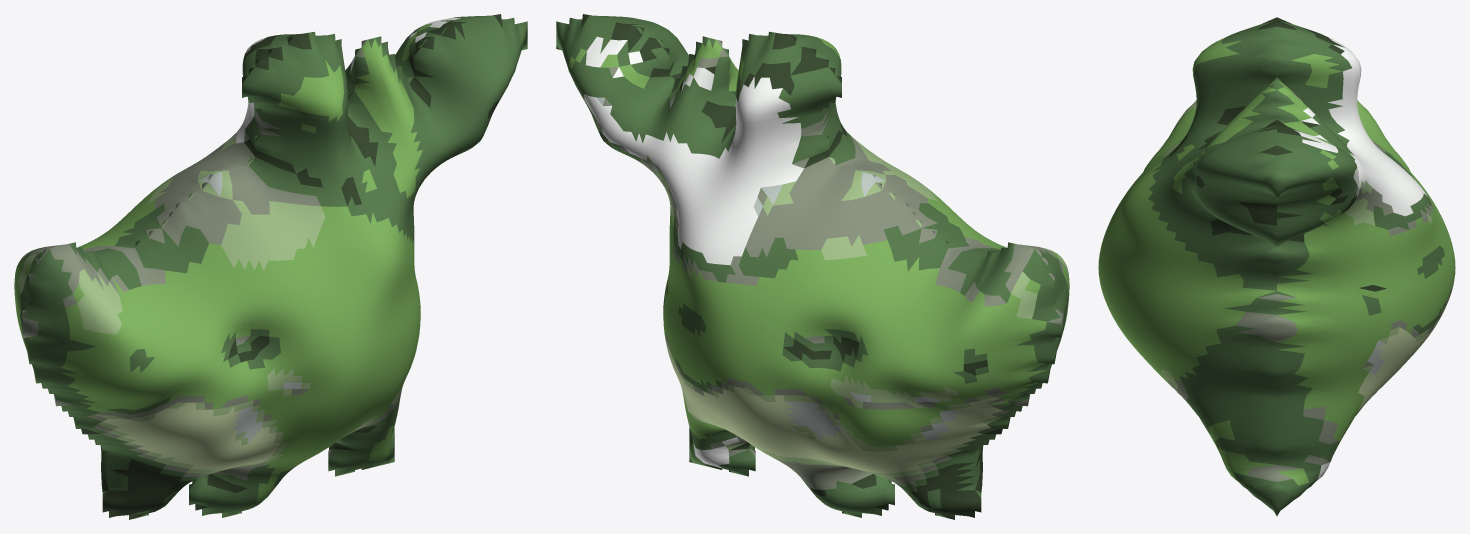
The model's file is maewoyong.glb.
The picture shows the model from 3 angles, left to right: view 1: azimuth 30°, elevation 25°; view 2: azimuth 150°, elevation 25°; view 3: azimuth 270°, elevation 25°; orthographic projection.
Parts seen in each view (by area): view 1: maewoyong; view 2: maewoyong; view 3: maewoyong.
Part boxes in pixels (<box>): maewoyong: <box>14,14,527,519</box>; maewoyong: <box>556,14,1069,519</box>; maewoyong: <box>1098,17,1455,515</box>.
Bounding box in the file's own units: 776 × 681 × 474.
